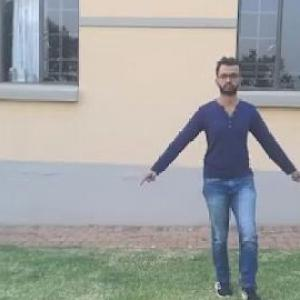land: (161, 75, 297, 264)
